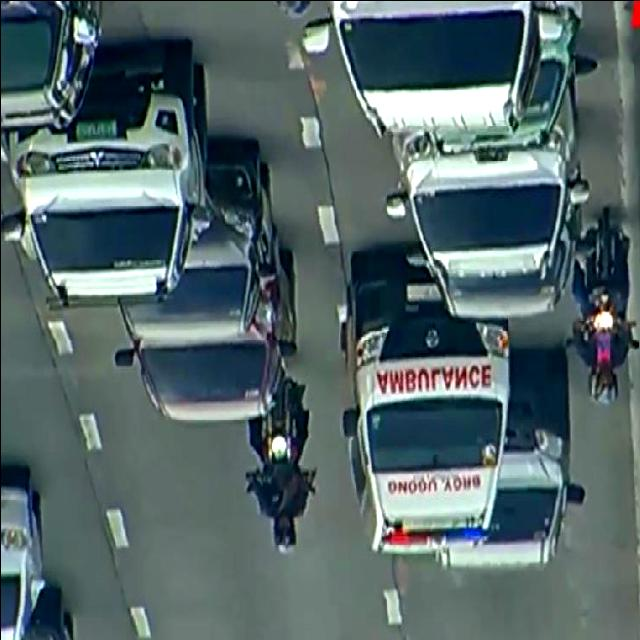emergency: (340, 243, 510, 557)
